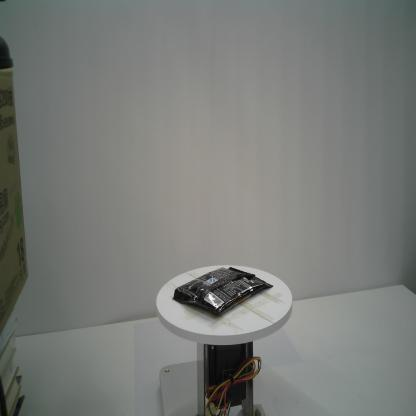Instant Drink: (172, 266, 274, 316)
